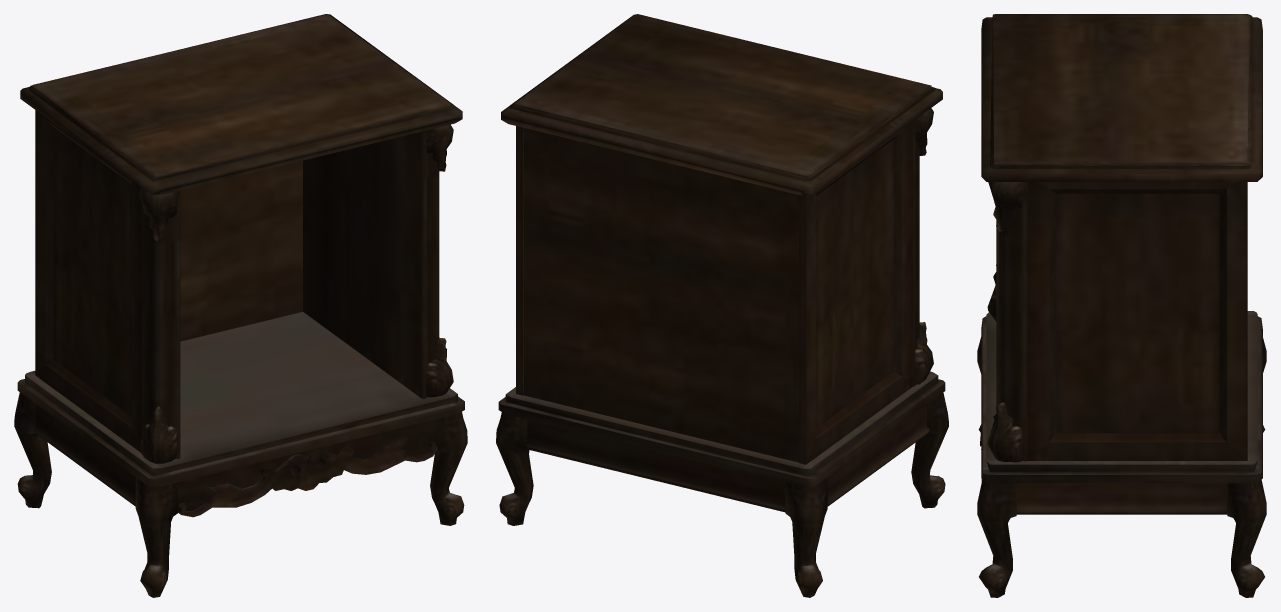
The model's file is classicnightstand_01.glb.
3 views of the same model, side by side, from view 1: azimuth 30°, elevation 25°; view 2: azimuth 150°, elevation 25°; view 3: azimuth 270°, elevation 25° (orthographic). The views are drawn at different scales.
Parts seen in each view (by area): view 1: ClassicNightstand_01; view 2: ClassicNightstand_01; view 3: ClassicNightstand_01.
Part boxes in pixels (x1,y1,x2,y2): ClassicNightstand_01: [14, 14, 467, 597]; ClassicNightstand_01: [496, 14, 948, 597]; ClassicNightstand_01: [977, 14, 1266, 597].
Bounding box in the file's own units: 0.5678 × 0.7 × 0.4242.
1 material, 1 textured.
